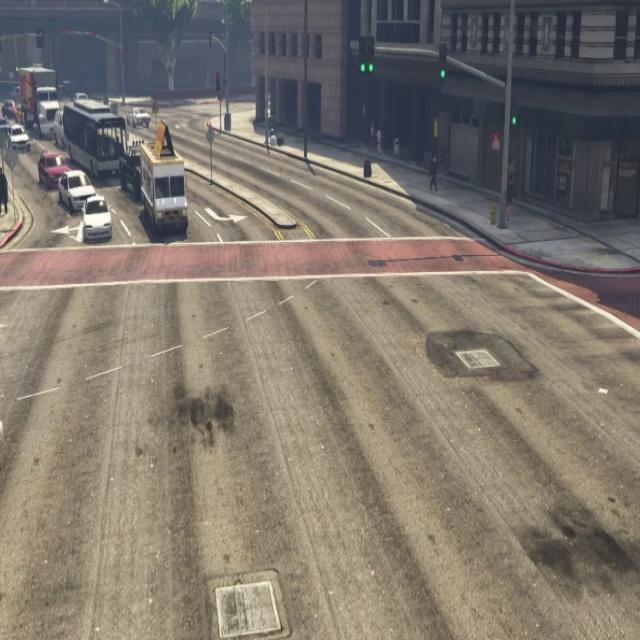Green-Signal: (352, 30, 386, 105), (434, 38, 455, 110), (507, 87, 528, 150)
